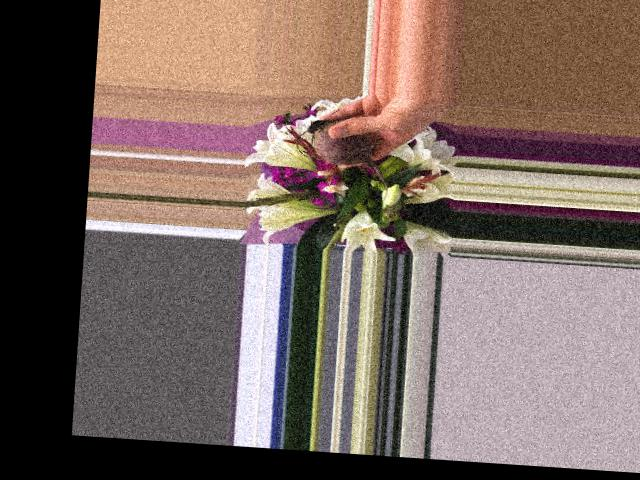beet: (292, 117, 392, 199)
